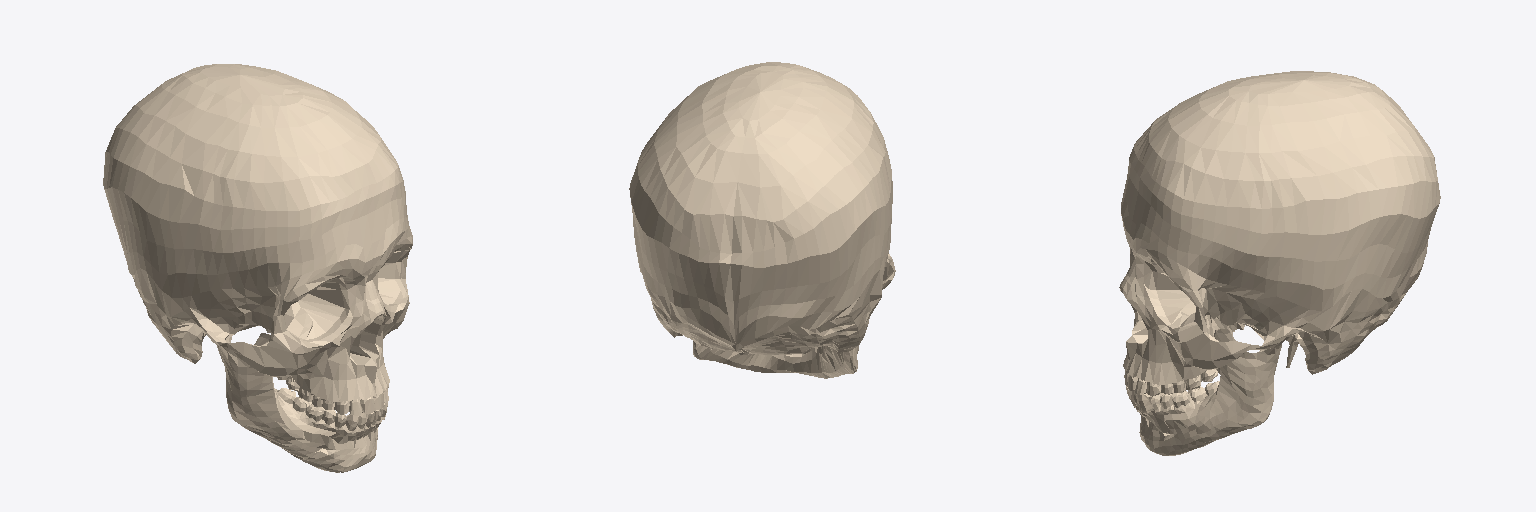
File: skull2.obj
3 views of the same model, side by side, from view 1: azimuth 30°, elevation 25°; view 2: azimuth 150°, elevation 25°; view 3: azimuth 270°, elevation 25° (orthographic).
Visible parts, largest first — view 1: skull; view 2: skull; view 3: skull.
Part boxes in pixels (x1,y1,x2,y2): skull: (103, 64, 412, 472); skull: (629, 62, 895, 378); skull: (1119, 71, 1440, 455).
Size of the model in its own units: 5.23 by 7.32 by 6.14.